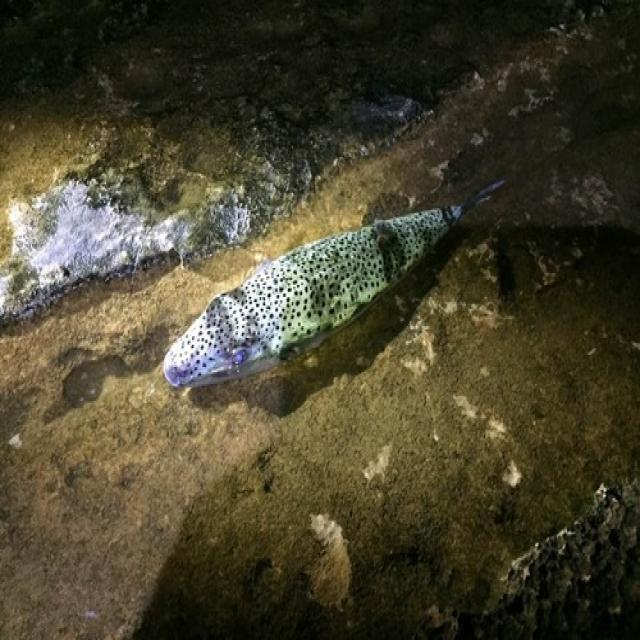Balik: (164, 181, 503, 387)
